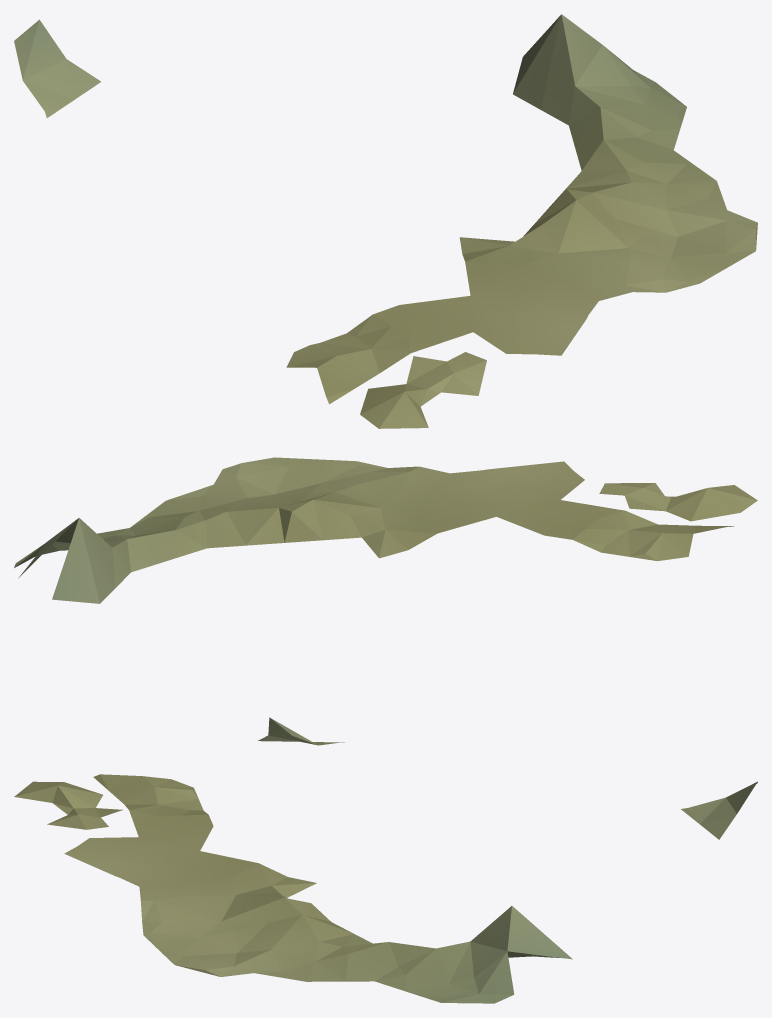
The picture shows the model from 3 angles, top to bottom: view 1: azimuth 30°, elevation 25°; view 2: azimuth 150°, elevation 25°; view 3: azimuth 270°, elevation 25°; orthographic projection. The views are drawn at different scales.
Visible parts, largest first — view 1: 日本山地秋林; view 2: 日本山地秋林; view 3: 日本山地秋林.
Boxes of the visible parts, x1,y1,x2,y2 form: 日本山地秋林: (14, 14, 757, 428); 日本山地秋林: (14, 457, 757, 745); 日本山地秋林: (14, 774, 757, 1003).
Size of the model in its own units: 8.78 by 1.24 by 12.18.
